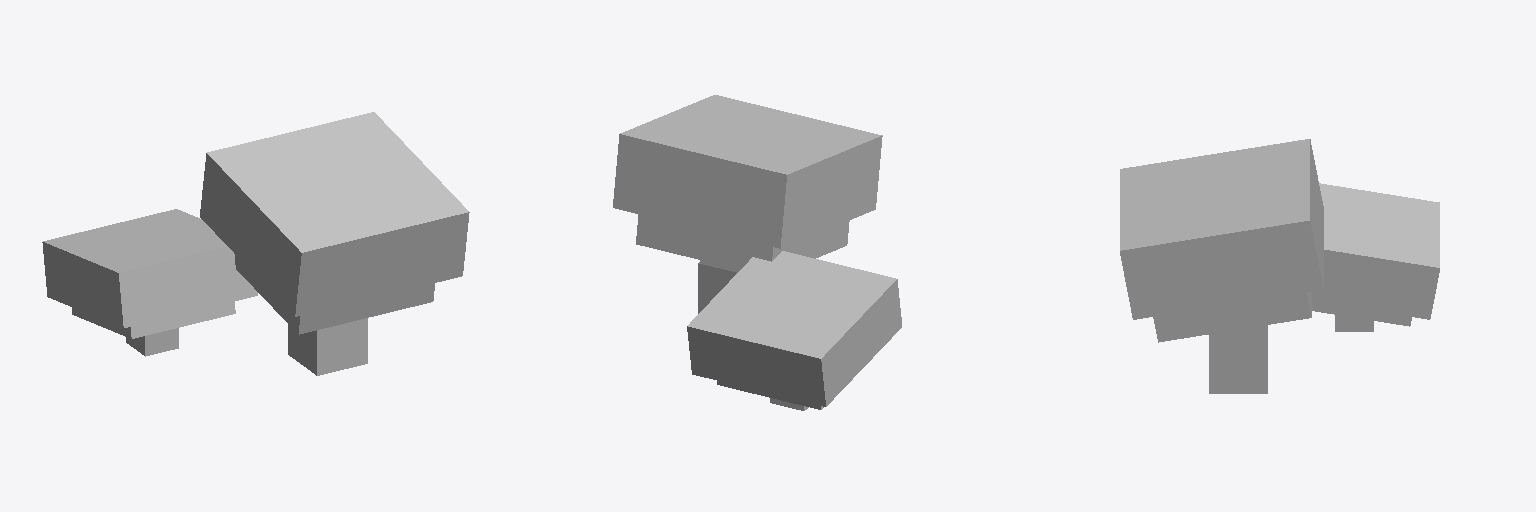
File: warped_fungus.obj
The picture shows the model from 3 angles: view 1: azimuth 30°, elevation 25°; view 2: azimuth 150°, elevation 25°; view 3: azimuth 270°, elevation 25°; orthographic projection.
Parts seen in each view (by area): view 1: cube.004; view 2: cube.004; view 3: cube.004.
Part boxes in pixels (bbox=[...]): cube.004: bbox=[42, 112, 469, 375]; cube.004: bbox=[613, 95, 901, 410]; cube.004: bbox=[1120, 139, 1439, 393].
Bounding box in the file's own units: 0.9937 × 0.7164 × 1.04.